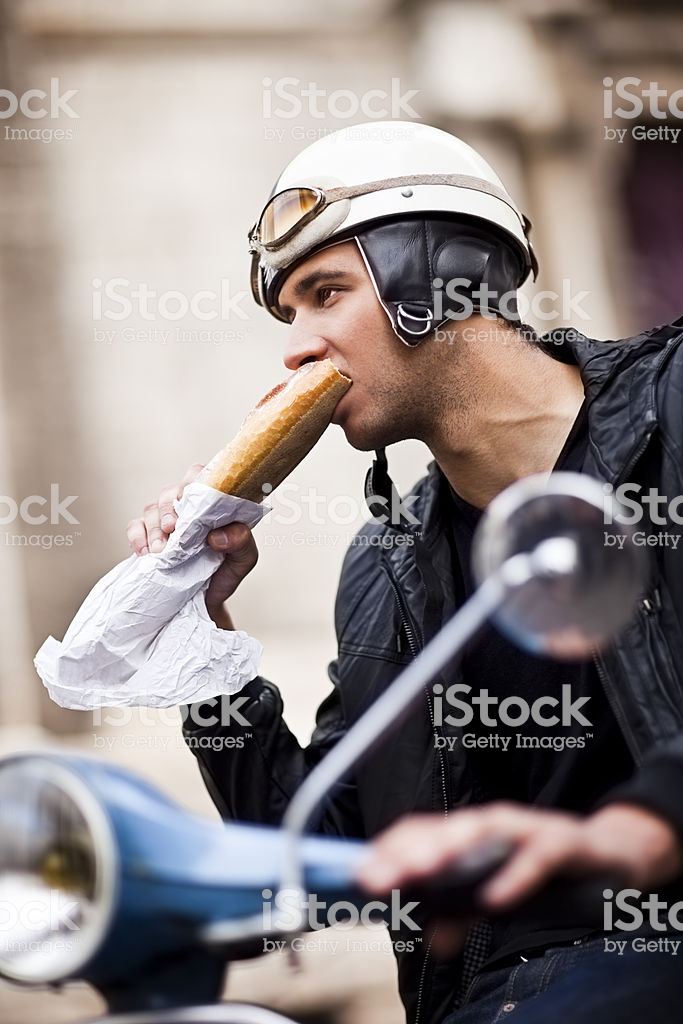helmet: (233, 118, 519, 261)
